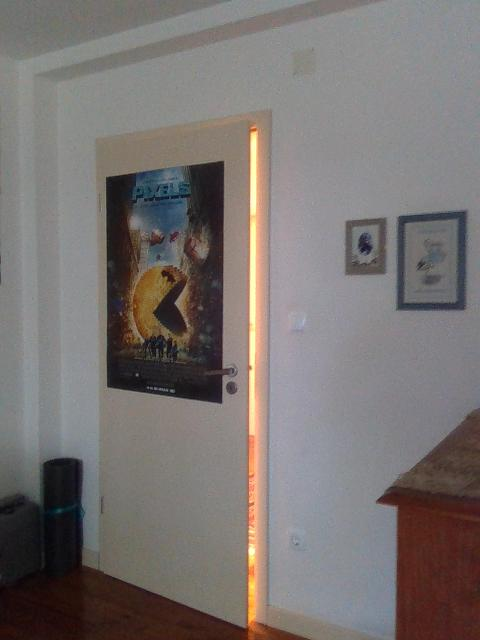closed_door: (95, 110, 272, 636)
